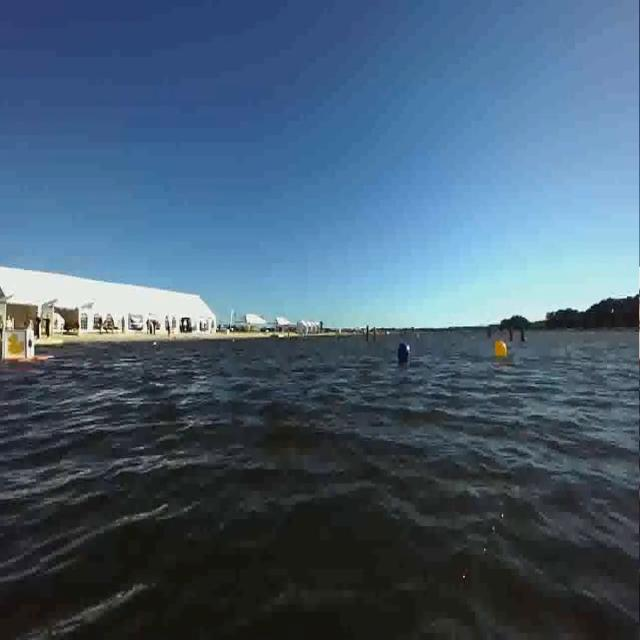blue-buoy: (398, 341, 412, 364)
yellow-buoy: (494, 338, 508, 358)
